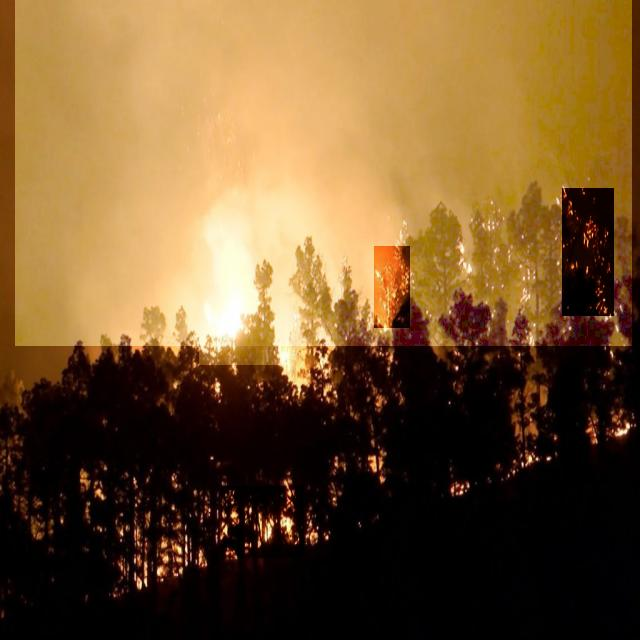Fire: (199, 217, 281, 365), (562, 188, 614, 316), (221, 486, 304, 558), (374, 246, 410, 328), (608, 412, 639, 459)
Smoke: (15, 0, 632, 346)
